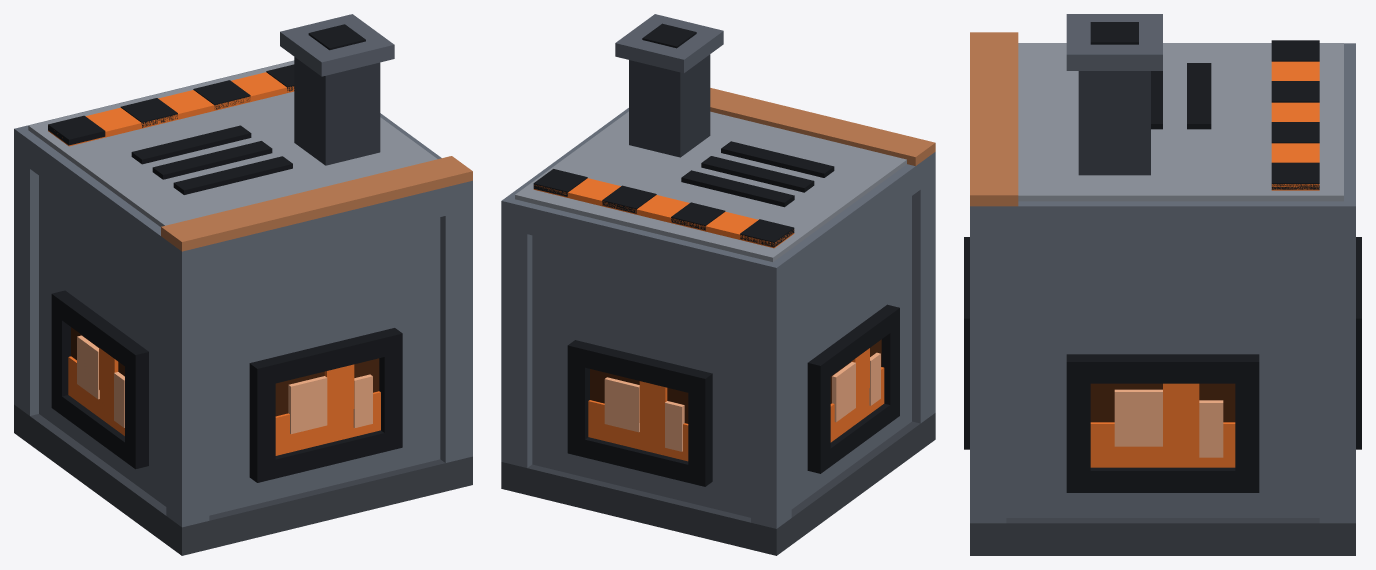
File: gen_fuel.glb
3 renders of one model, left to right at view 1: azimuth 30°, elevation 25°; view 2: azimuth 150°, elevation 25°; view 3: azimuth 270°, elevation 25°, orthographic. The views are drawn at different scales.
Visible parts, largest first — view 1: body.028, tier.013, flame.003, fire.003; view 2: body.028, flame.003, tier.013, fire.003; view 3: body.028, tier.013, flame.003, fire.003.
Boxes of the visible parts, <box> form: body.028: <box>14,14,472,555</box>; tier.013: <box>161,156,472,251</box>; flame.003: <box>77,335,372,434</box>; fire.003: <box>68,356,380,455</box>; body.028: <box>501,14,935,555</box>; flame.003: <box>604,348,880,451</box>; tier.013: <box>710,88,935,165</box>; fire.003: <box>588,367,884,461</box>; body.028: <box>964,14,1361,555</box>; tier.013: <box>970,32,1018,206</box>; flame.003: <box>1114,383,1223,457</box>; fire.003: <box>1090,422,1235,467</box>.
Size of the model in its own units: 1.03 by 1.38 by 1.03.
